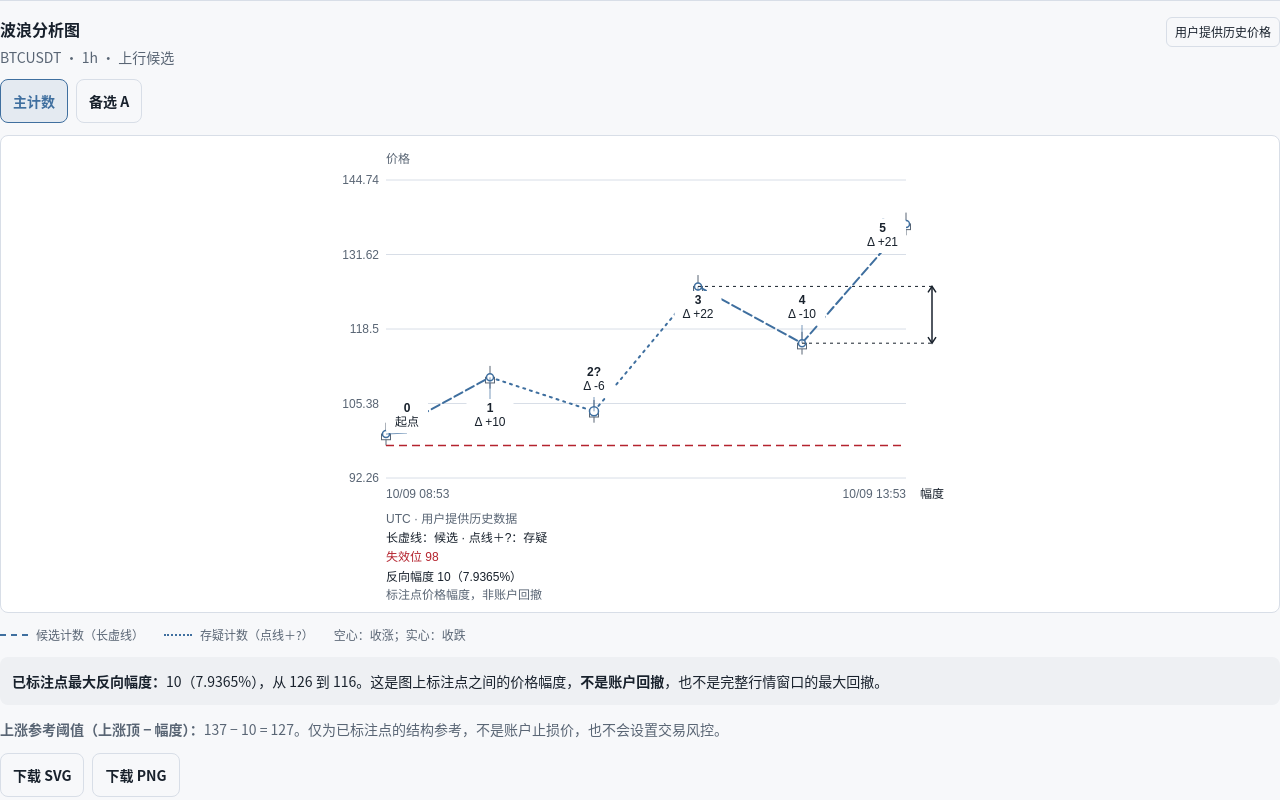
Test: safe browser-only wave image downloads › keeps the fallback file available when the browser blocks automatic download
Click the button "下载 SVG".
click(42, 775)  # box [0,753,84,797]
(page scrolled)
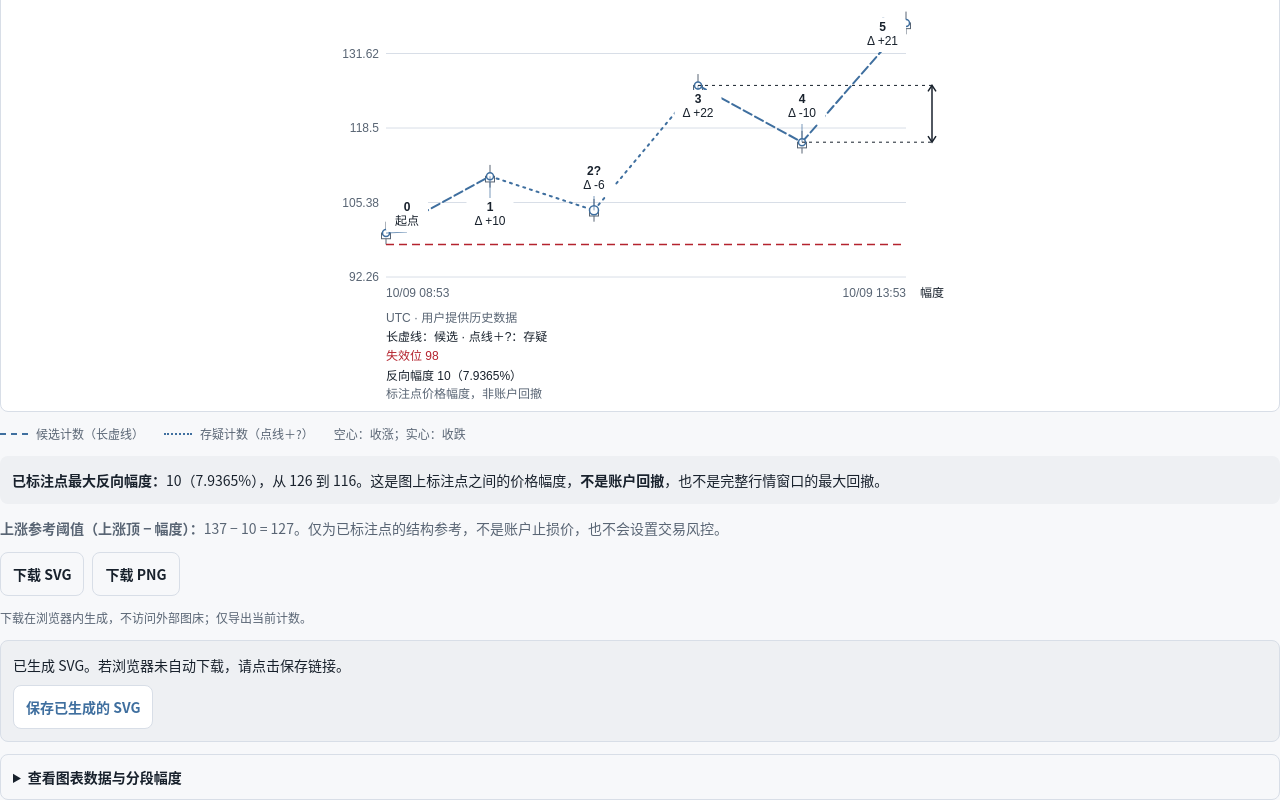
Expected: the message shows "若浏览器未自动下载", [84,655,350,675]
